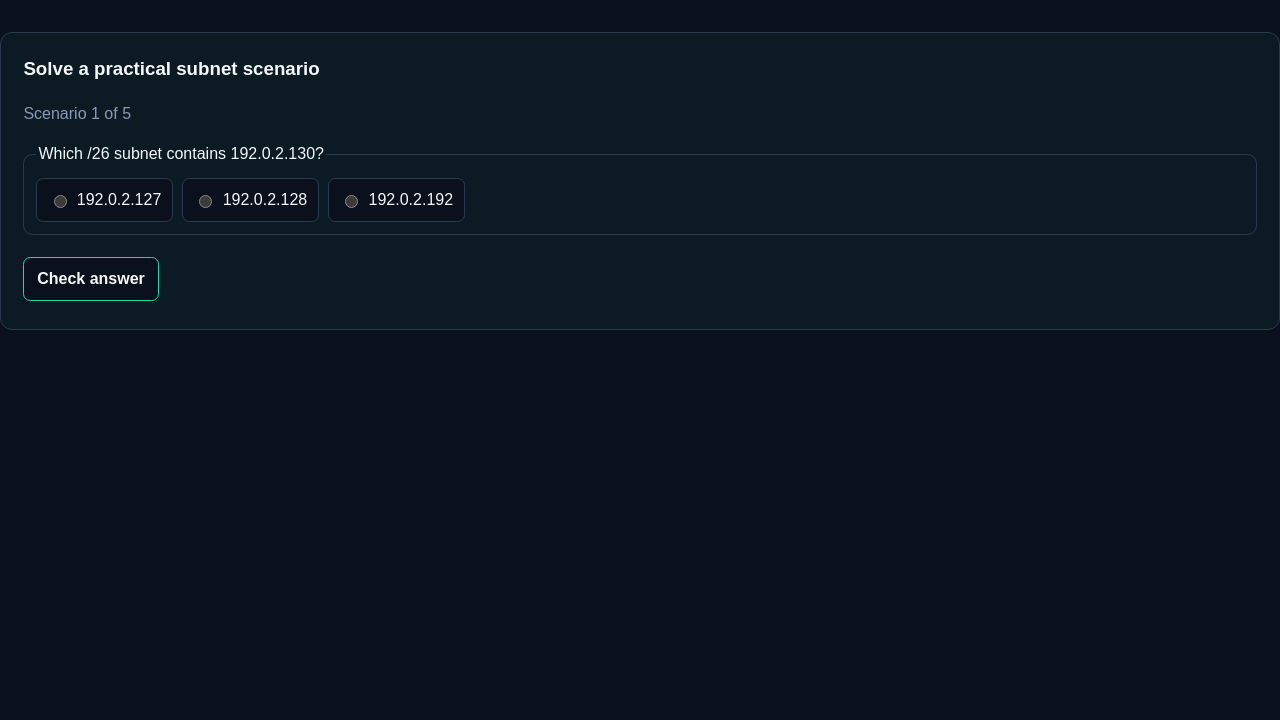
it: SubnetScenarioPlayer › records a wrong attempt separately from correctness and reveals reasoning
Click the radio button labelled "192.0.2.127" at (60, 202), box [54, 195, 67, 208]
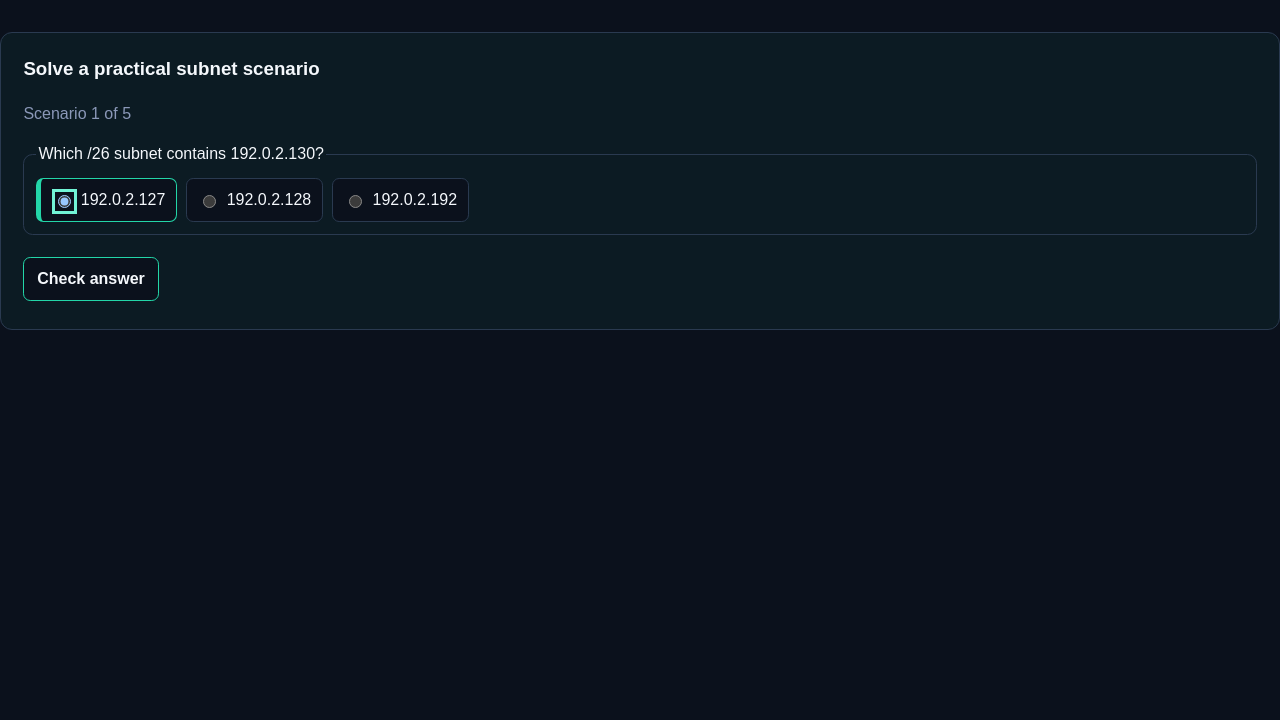
Click the button "Check answer" at (91, 279), box [23, 257, 159, 301]
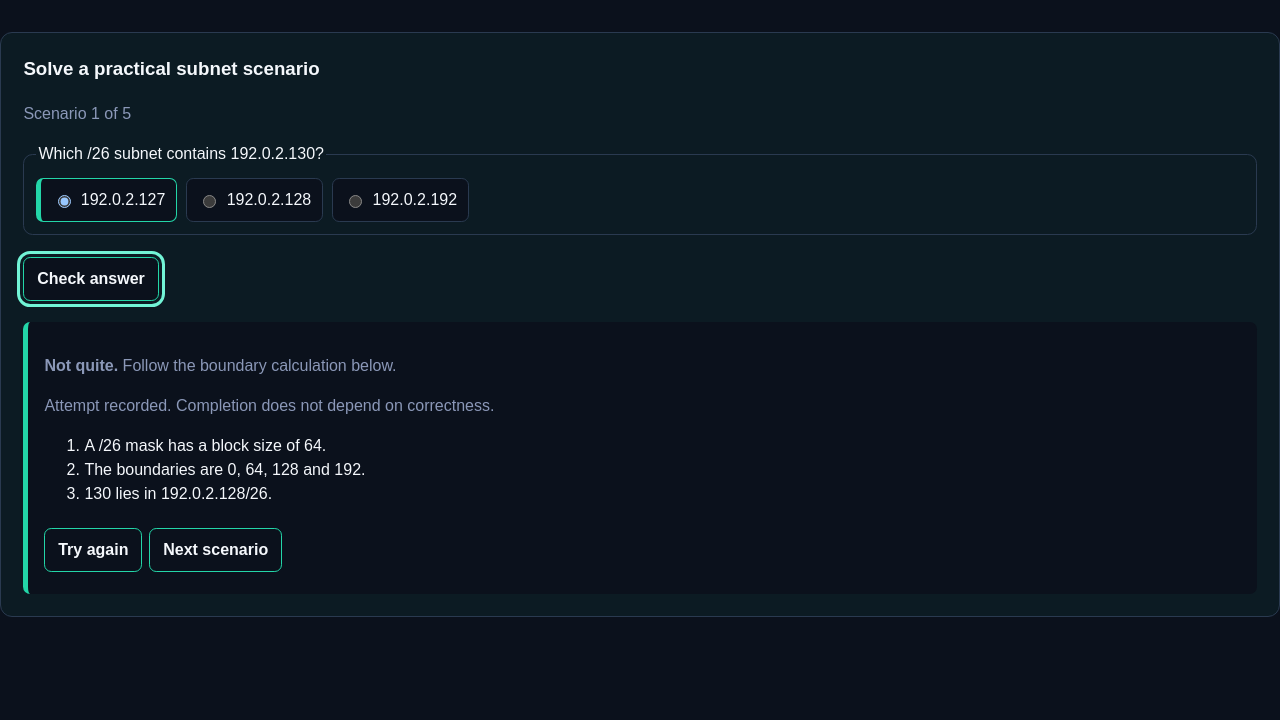
Result: the message shows "Not quite" at [44, 357, 118, 374]
Result: the text with test id "scenario-attempted" shows "Attempt recorded" at [44, 397, 494, 414]
Result: the list item "A /26 mask has a block size of 64." is shown at [84, 437, 326, 454]
